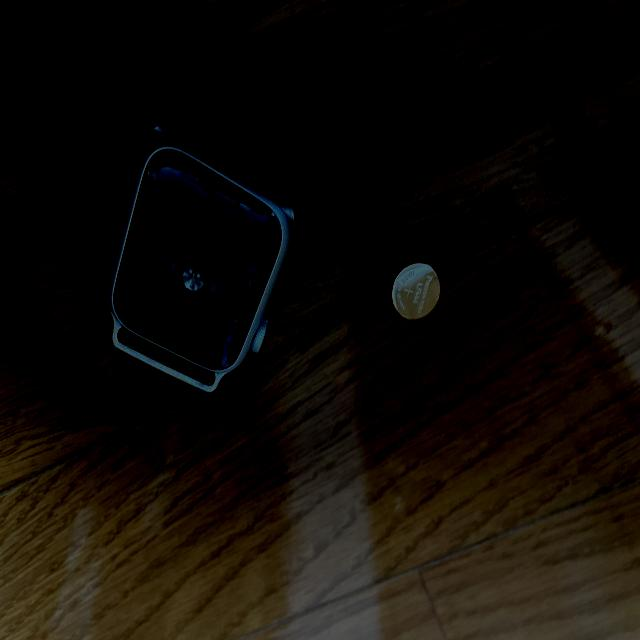COIN: (389, 256, 443, 322)
